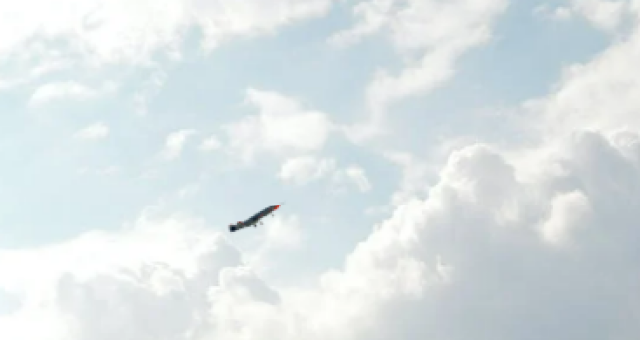military drone: (228, 204, 280, 232)
